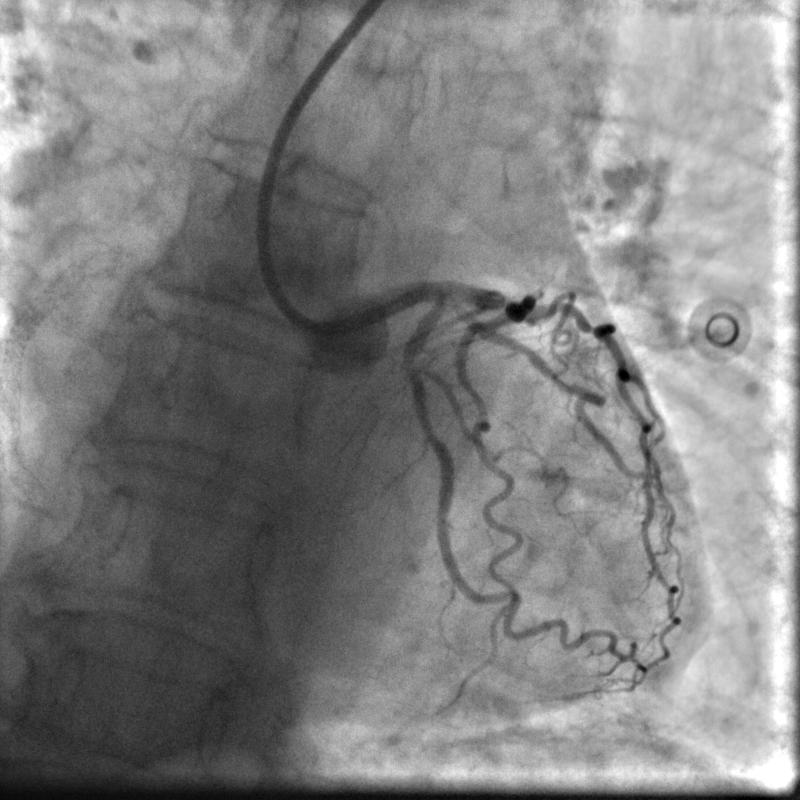Stenosis: (403, 349, 422, 380)
